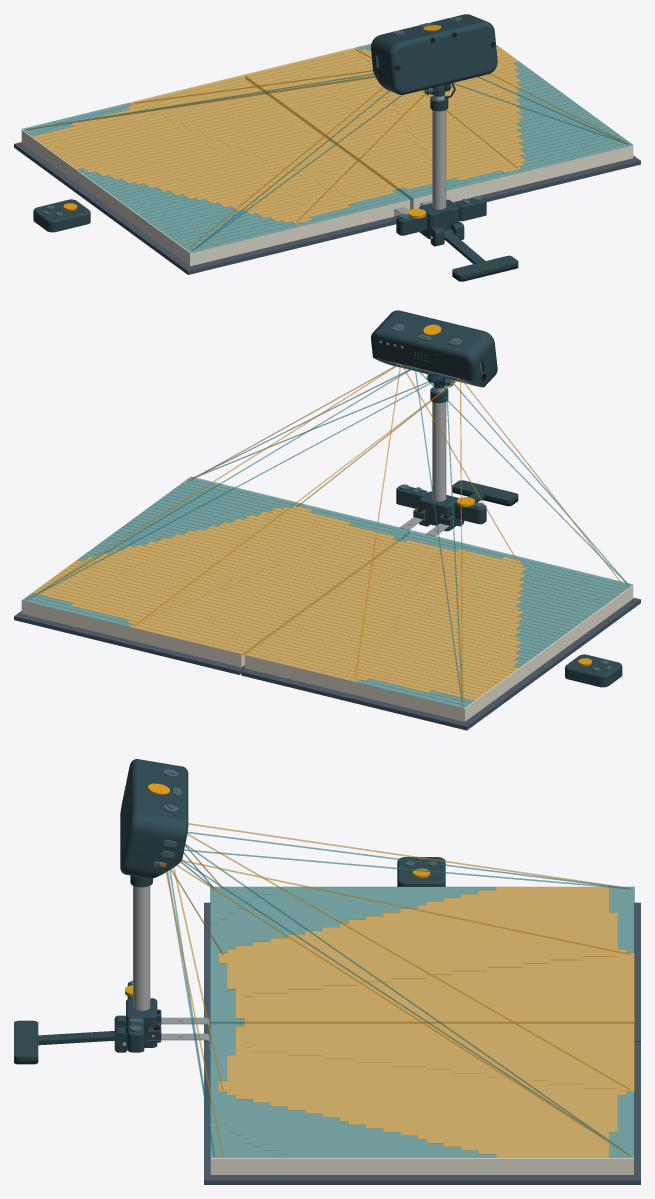
Rendered from sensebook_v2.glb.
3 views of the same model, one above another, from view 1: azimuth 30°, elevation 25°; view 2: azimuth 150°, elevation 25°; view 3: azimuth 270°, elevation 25° (orthographic). The views are drawn at different scales.
Parts seen in each view (by area): view 1: book_pages_right, book_pages_left, zone_far_right, zone_far_left, zone_near_left, zone_near_right, shell_back_cover, book_cover_right, shell_front_tub, stick_outer_tube, book_cover_left, rear_leg (+8 smaller); view 2: book_pages_right, book_pages_left, zone_far_left, zone_far_right, zone_near_left, zone_near_right, shell_front_tub, book_cover_right, view_near_right, view_near_left, book_cover_left, view_far_right (+5 smaller); view 3: book_pages_left, book_pages_right, zone_far_left, zone_far_right, zone_near_left, zone_near_right, book_cover_left, shell_front_tub, view_far_left, view_near_left, view_near_right, view_far_right (+6 smaller).
Boxes of the visible parts, x1,y1,x2,y2 form: book_pages_right: [21, 76, 409, 266]; book_pages_left: [245, 44, 633, 209]; zone_far_right: [32, 47, 432, 223]; zone_far_left: [129, 45, 526, 198]; zone_near_left: [22, 103, 632, 238]; zone_near_right: [160, 43, 601, 252]; shell_back_cover: [389, 21, 497, 94]; book_cover_right: [14, 142, 396, 274]; shell_front_tub: [371, 14, 485, 94]; stick_outer_tube: [432, 110, 446, 209]; book_cover_left: [410, 155, 640, 209]; rear_leg: [444, 229, 518, 279]; book_pages_right: [245, 532, 633, 721]; book_pages_left: [21, 477, 409, 667]; zone_far_left: [32, 505, 441, 681]; zone_far_right: [129, 530, 526, 700]; zone_near_left: [160, 476, 601, 708]; zone_near_right: [22, 491, 632, 626]; shell_front_tub: [371, 311, 496, 387]; book_cover_right: [241, 597, 640, 730]; view_near_right: [26, 375, 628, 705]; view_near_left: [26, 368, 628, 706]; book_cover_left: [14, 611, 245, 674]; view_far_right: [134, 379, 625, 705]; book_pages_left: [210, 1024, 633, 1174]; book_pages_right: [211, 887, 633, 1023]; zone_far_left: [218, 952, 634, 1157]; zone_far_right: [218, 886, 634, 1091]; zone_near_left: [210, 886, 634, 1157]; zone_near_right: [210, 886, 634, 1157]; book_cover_left: [204, 1042, 640, 1184]; shell_front_tub: [126, 759, 188, 878]; view_far_left: [166, 860, 630, 1155]; view_near_left: [167, 849, 630, 1155]; view_near_right: [169, 831, 630, 1155]; view_far_right: [173, 823, 630, 1089].
Size of the model in its own units: 0.431 by 0.1661 by 0.3629.
